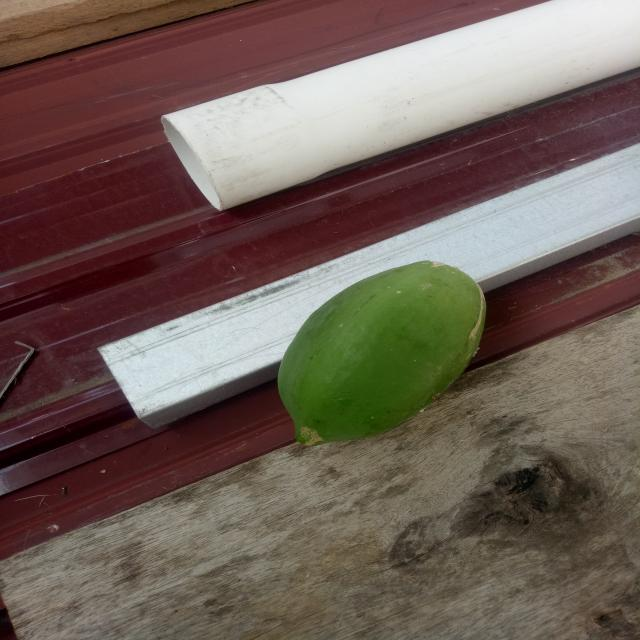Pepaya unrippen: (278, 258, 492, 446)
